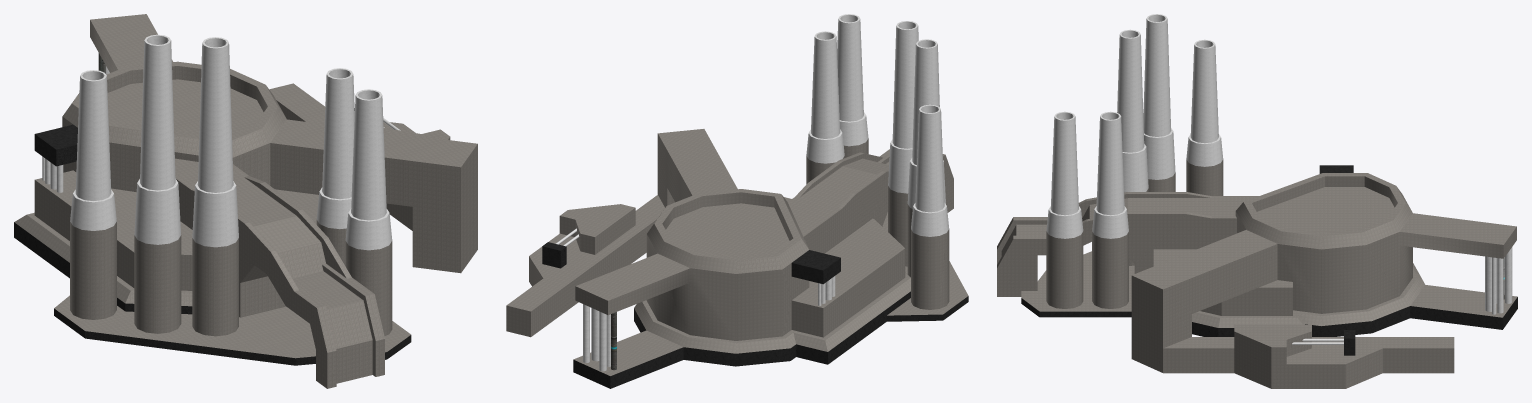
The model's file is planetary-energy-plant.fbx.
3 renders of one model, left to right at view 1: azimuth 30°, elevation 25°; view 2: azimuth 150°, elevation 25°; view 3: azimuth 270°, elevation 25°, orthographic. The views are drawn at different scales.
Parts seen in each view (by area): view 1: Component_1_1; view 2: Component_1_1; view 3: Component_1_1.
Part boxes in pixels (x1=…): Component_1_1: x1=14, y1=14, x2=477, y2=388; Component_1_1: x1=506, y1=14, x2=968, y2=388; Component_1_1: x1=997, y1=14, x2=1517, y2=388.
Bounding box in the file's own units: 37.28 × 24.31 × 49.91.
